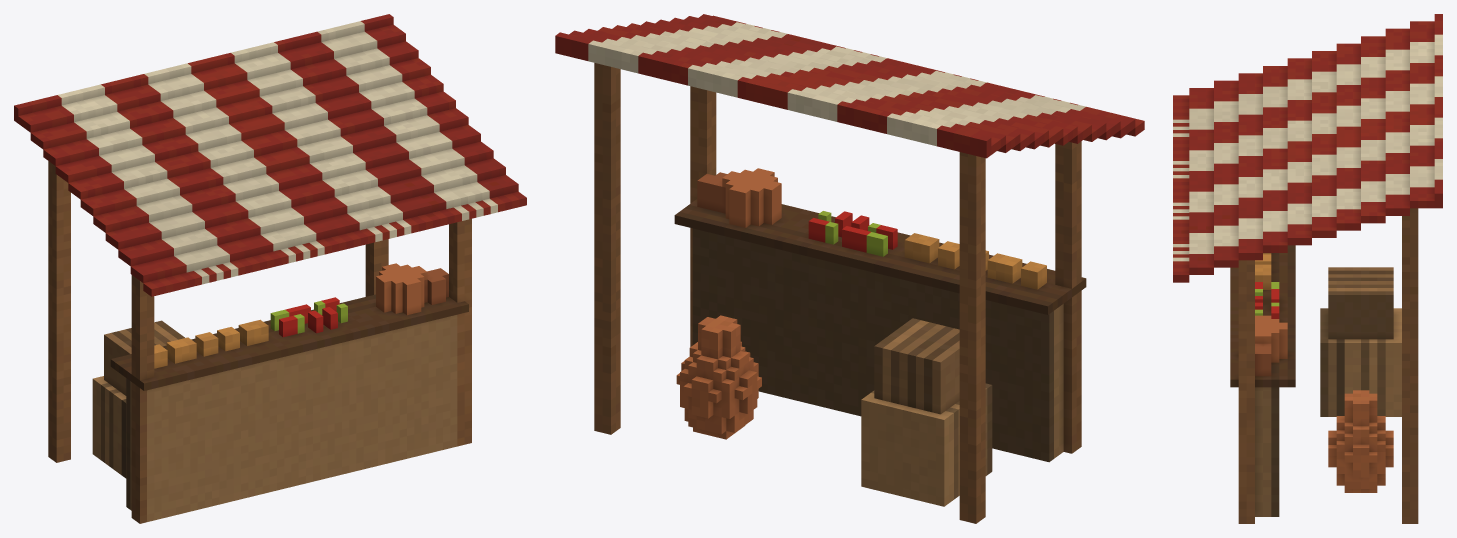
Rendered from market_stall.glb.
3 views of the same model, side by side, from view 1: azimuth 30°, elevation 25°; view 2: azimuth 150°, elevation 25°; view 3: azimuth 270°, elevation 25° (orthographic). The views are drawn at different scales.
Parts seen in each view (by area): view 1: market_stall; view 2: market_stall; view 3: market_stall.
Boxes of the visible parts, bbox=[...] form: market_stall: bbox=[14, 14, 526, 523]; market_stall: bbox=[555, 14, 1144, 523]; market_stall: bbox=[1173, 14, 1442, 523].
Size of the model in its own units: 2.6 by 2.3 by 1.65.
